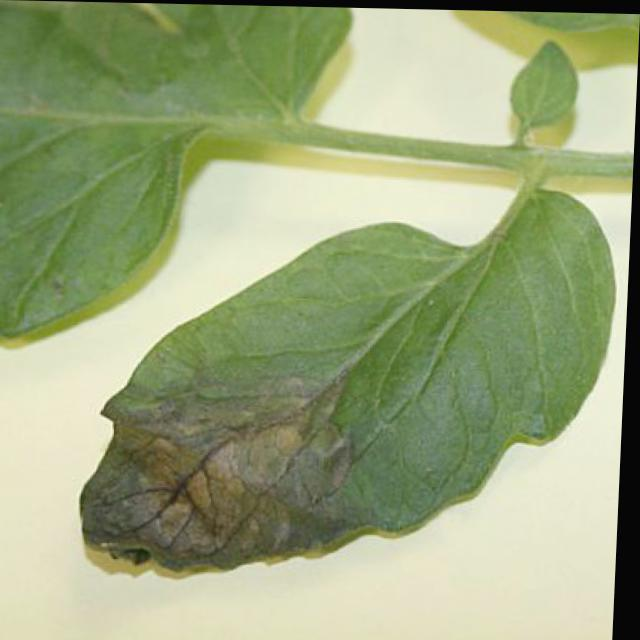Tomato mosaic virus leaf: (52, 161, 628, 602)
